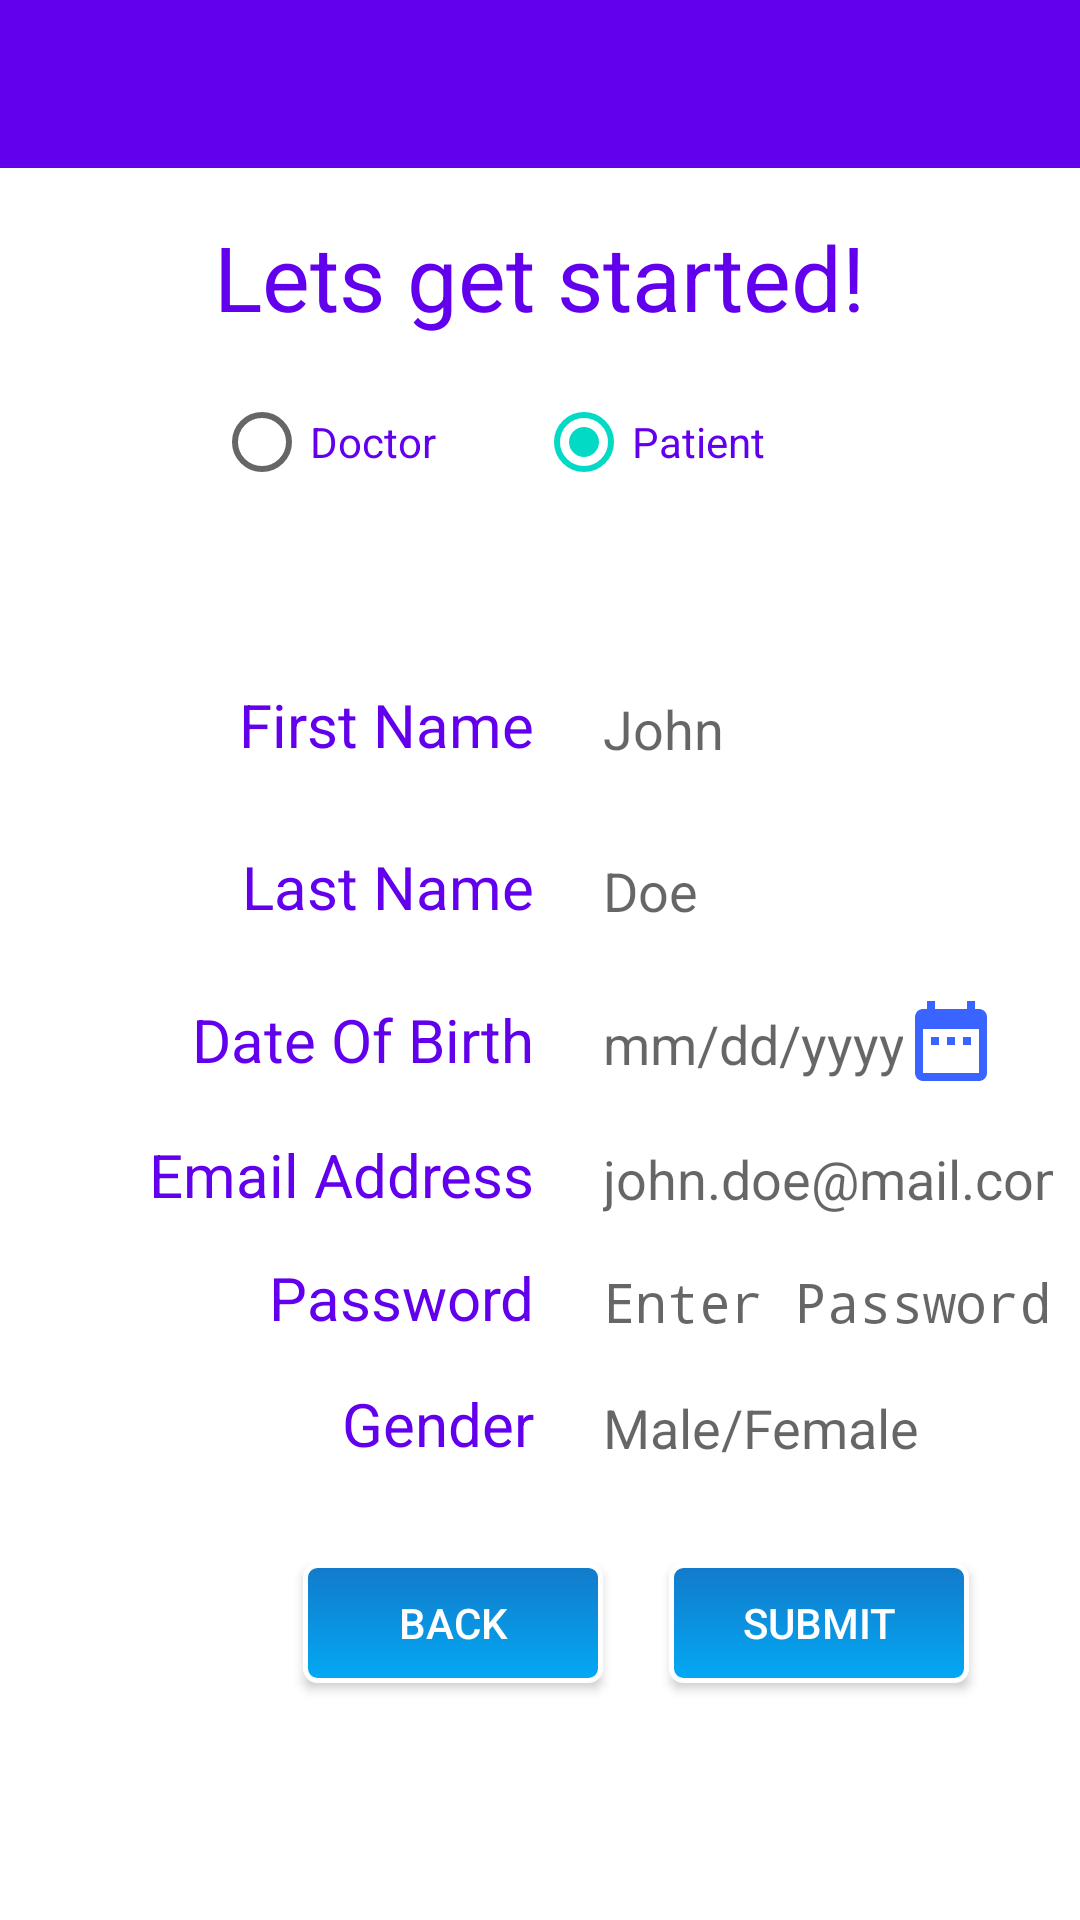

Screen size 1080px x 1920px. Icon name, then its box in pixels as BBox(x1, y1, x2, y2):
calendar: BBox(915, 1001, 987, 1081)
